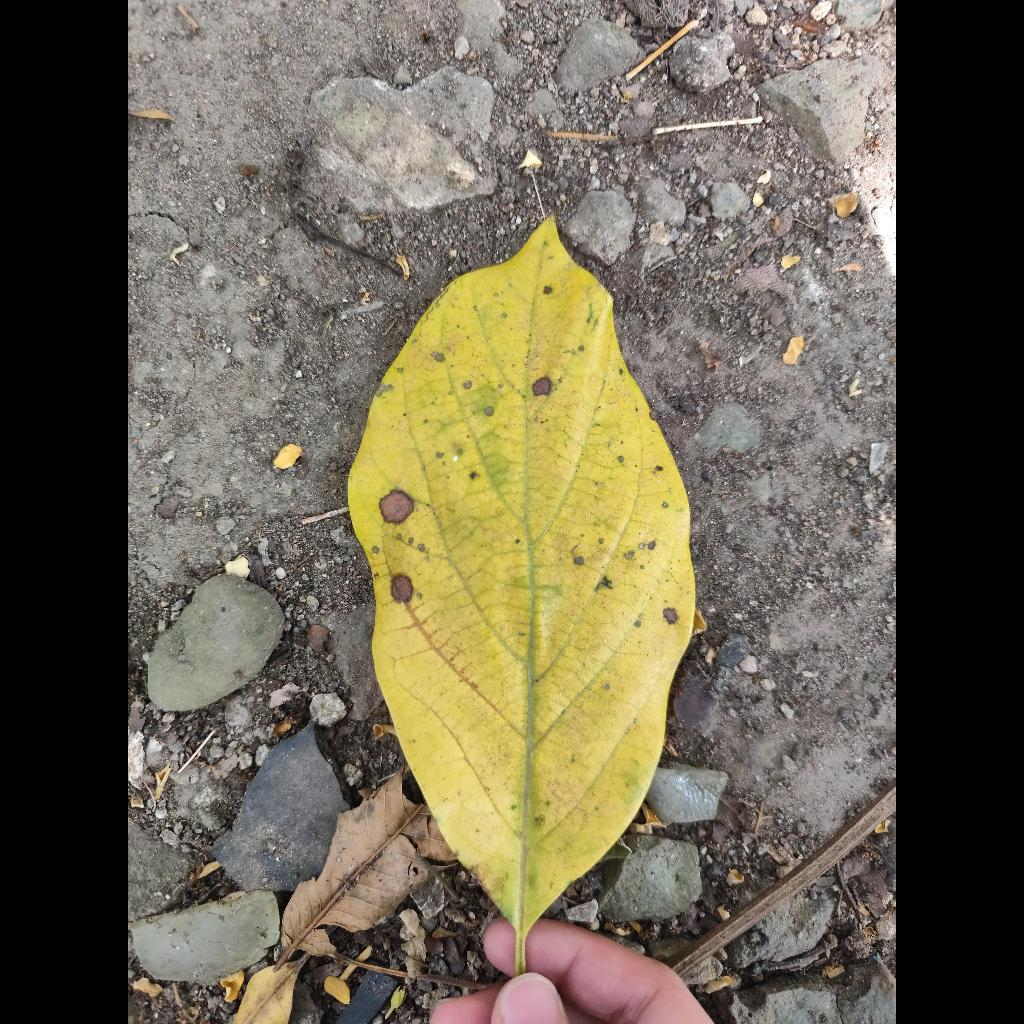deficiencia_nutricional: (348, 218, 695, 967)
